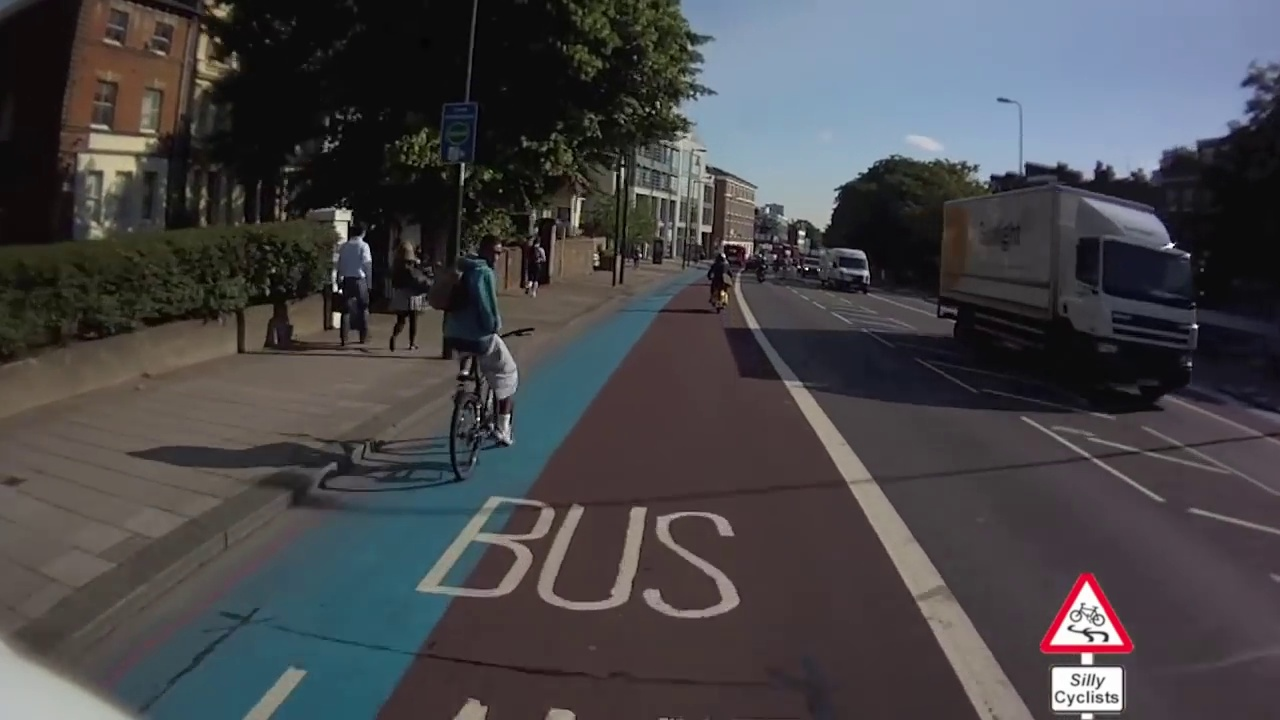cyclist_back: (441, 234, 530, 487), (704, 249, 730, 319)
